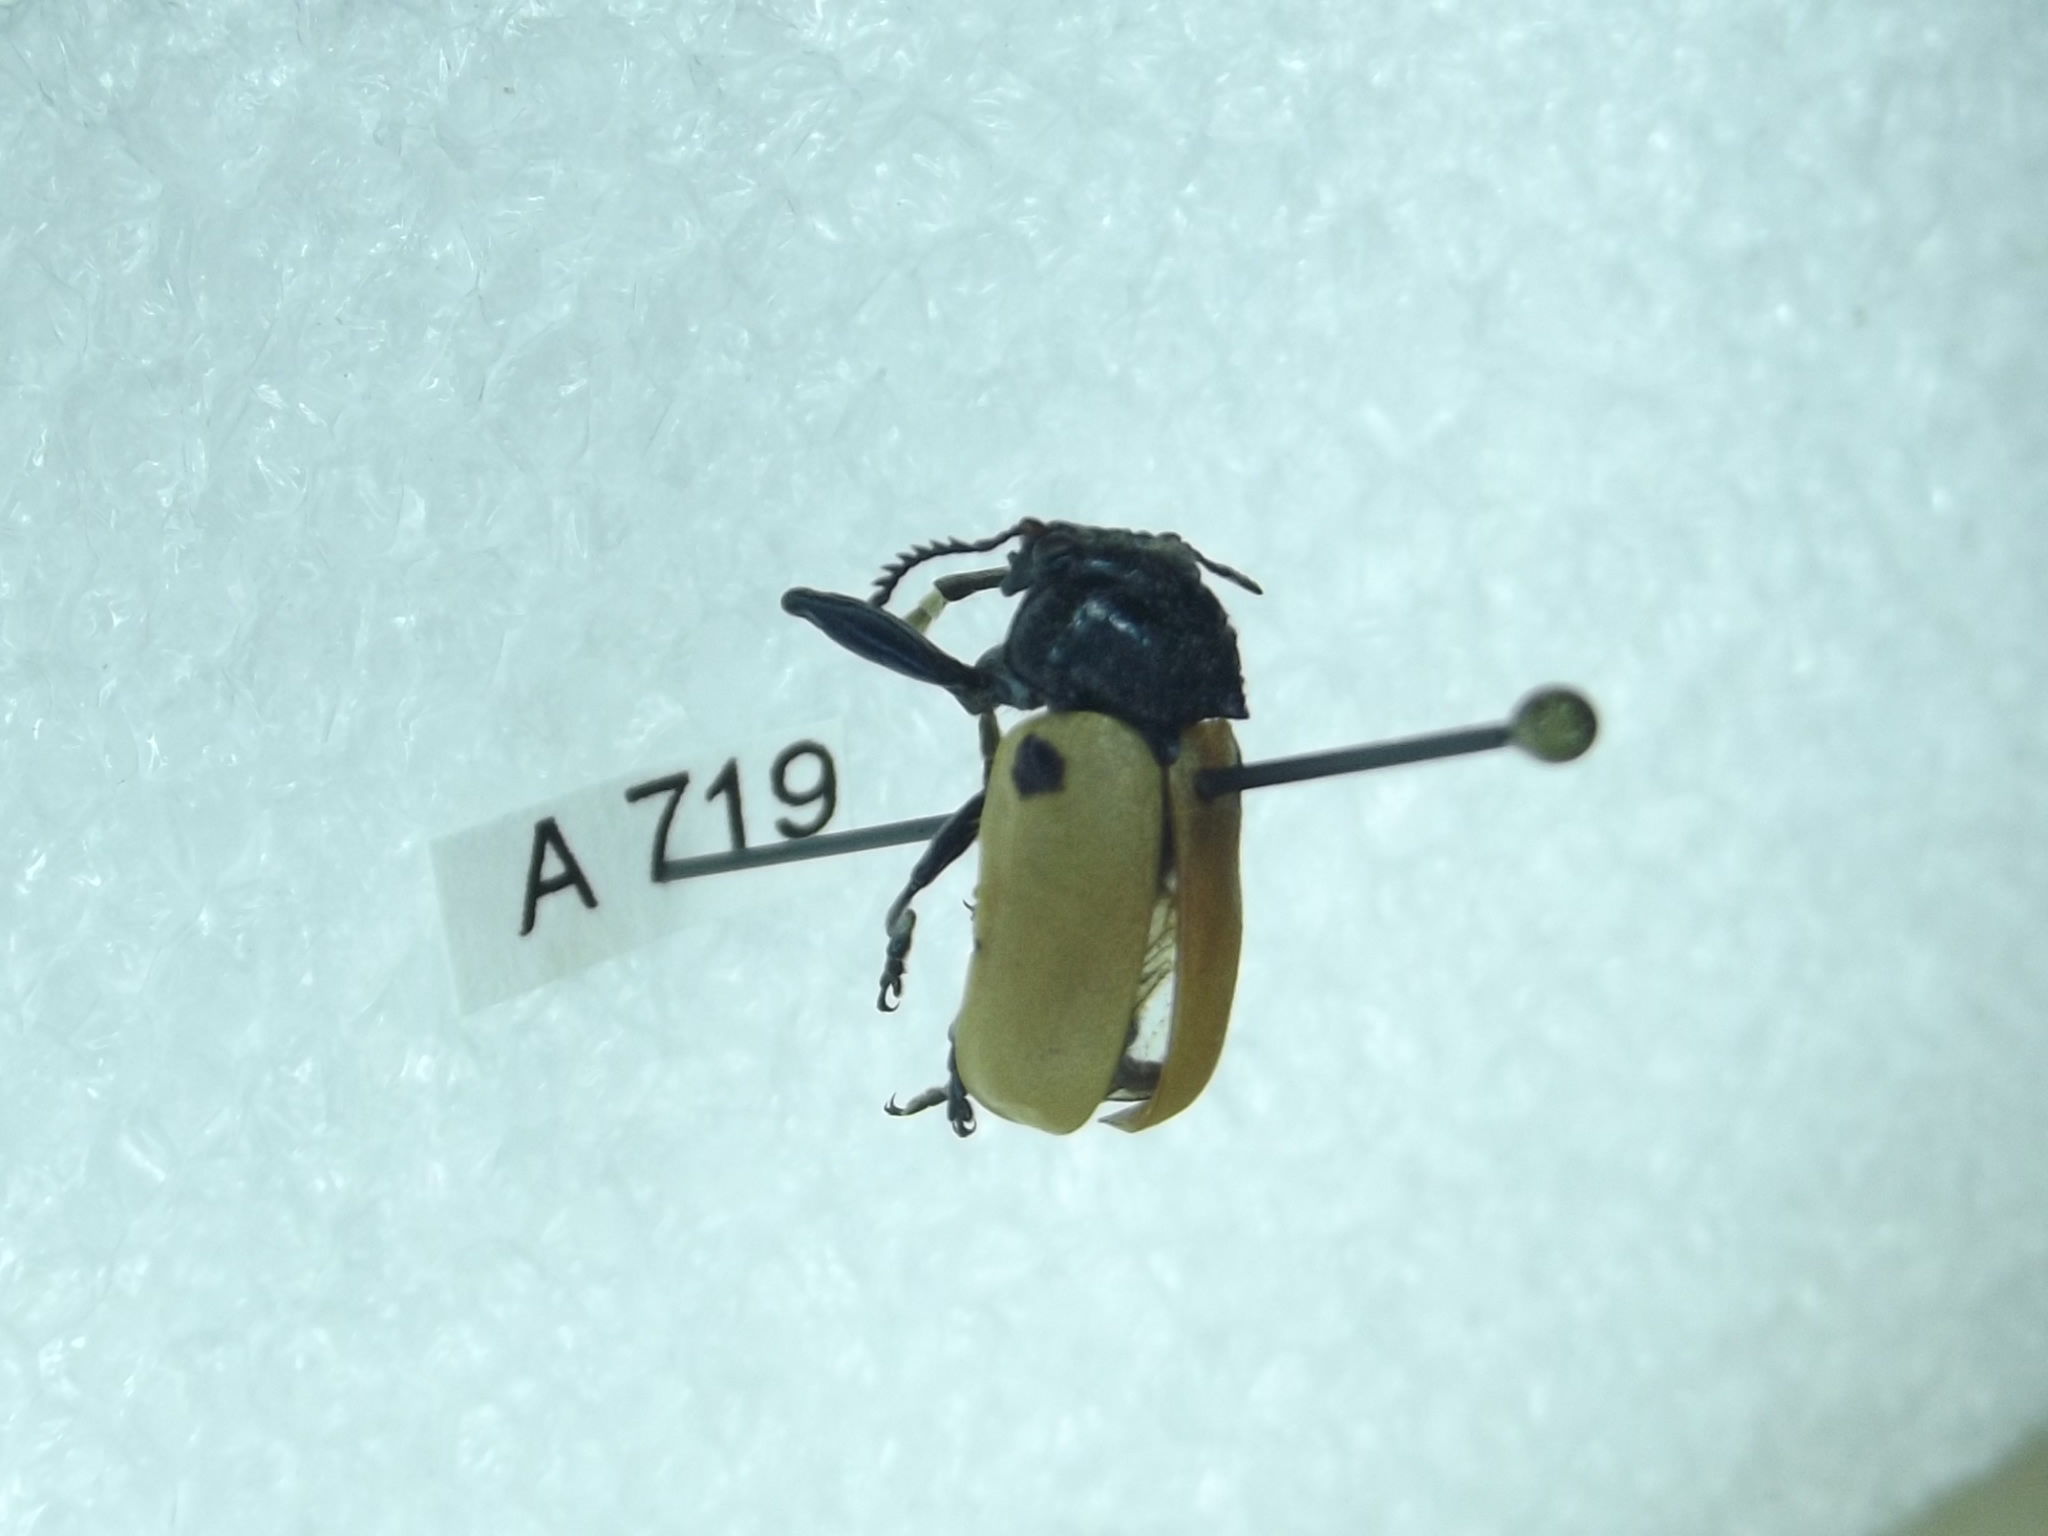Labidostomis_propinqua: (782, 478, 1303, 1154)
